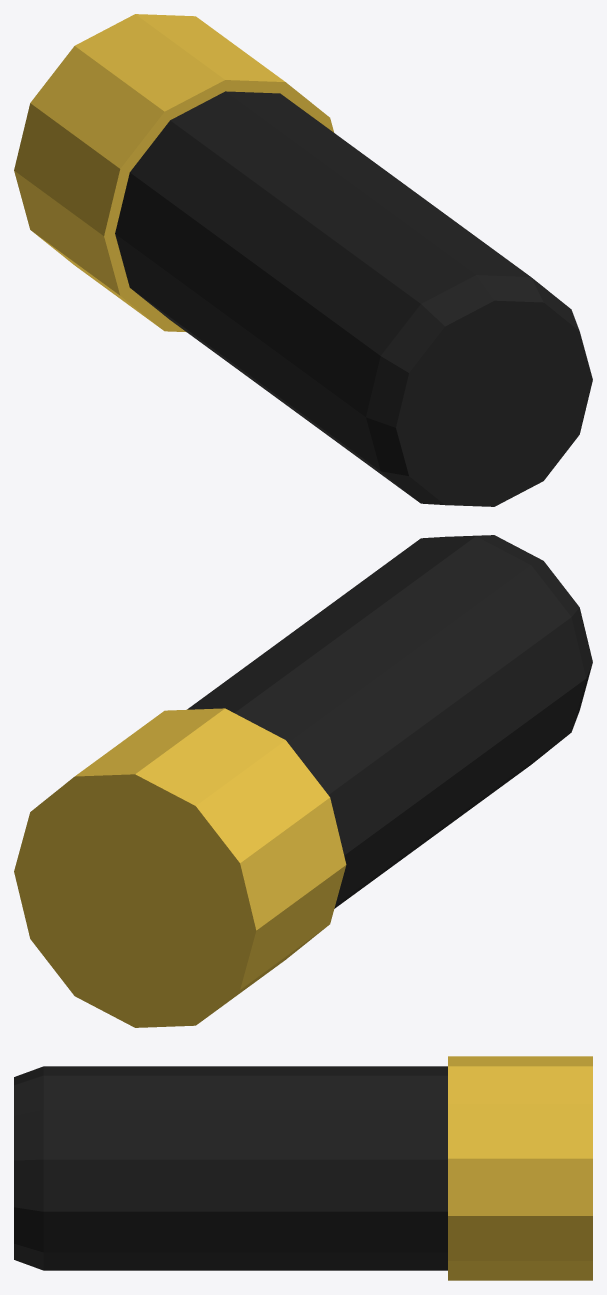
The model's file is Cartucho.fbx.
3 views of the same model, one above another, from view 1: azimuth 30°, elevation 25°; view 2: azimuth 150°, elevation 25°; view 3: azimuth 270°, elevation 25° (orthographic). The views are drawn at different scales.
Parts seen in each view (by area): view 1: Cylinder; view 2: Cylinder; view 3: Cylinder.
Boxes of the visible parts, x1,y1,x2,y2 form: Cylinder: [14, 14, 592, 506]; Cylinder: [14, 535, 592, 1027]; Cylinder: [14, 1056, 592, 1280].
Bounding box in the file's own units: 0.9965 × 2.56 × 0.9965.
